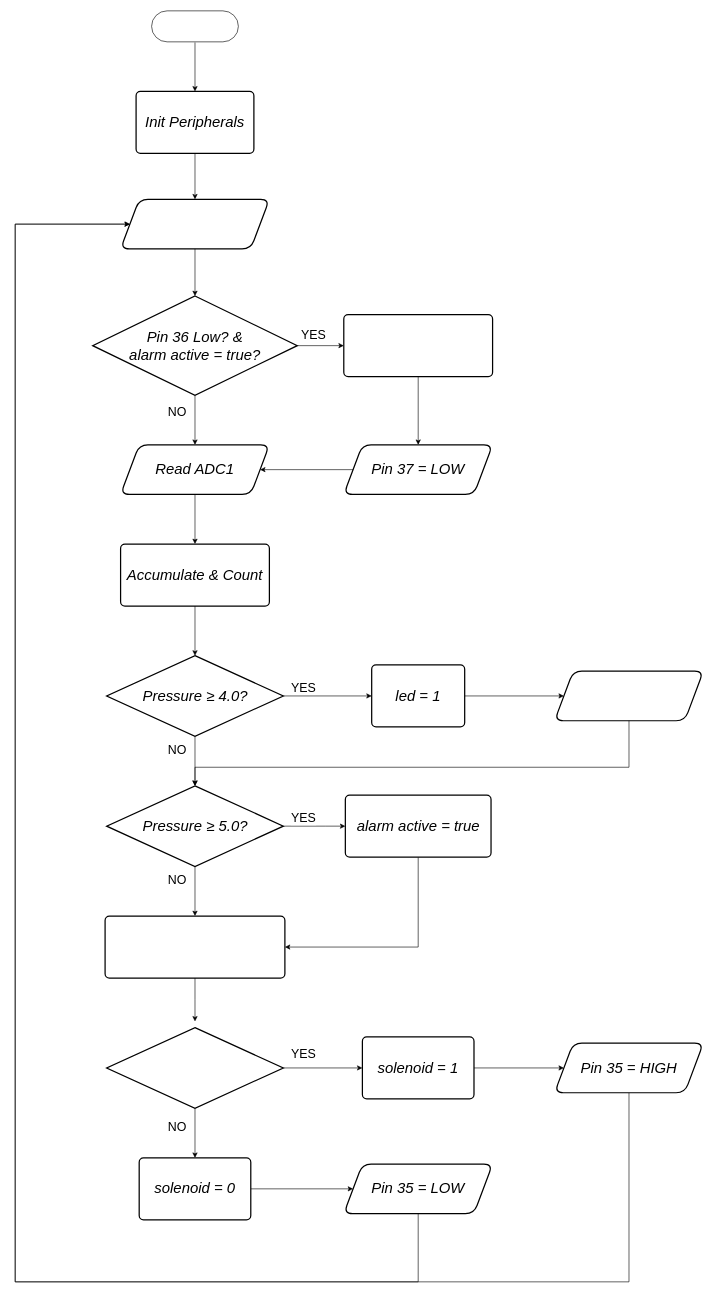
Some shapes in this 715 by 1298 pixel diagram are drawn without their labels. Each missing label, with the centre of its shape:
"alarm active = false led = 0" goes at point (418, 345).
"alarm active?" goes at point (195, 1068).
"Pin 37 = HIGH" goes at point (629, 695).
"Read Pin 36 (Reset Button)" goes at point (195, 223).
"Reset Accumulate & Count" goes at point (194, 946).
"Start" goes at point (194, 26).
